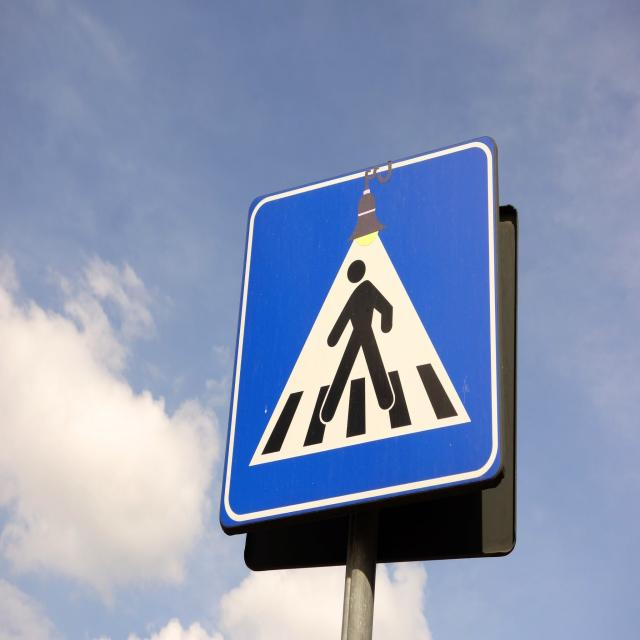Traffic sign: (198, 131, 501, 534)
